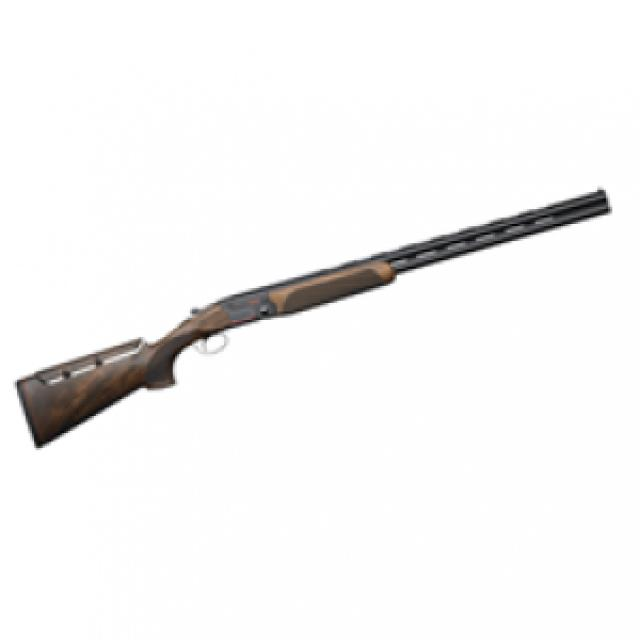rifle: (14, 182, 619, 458)
